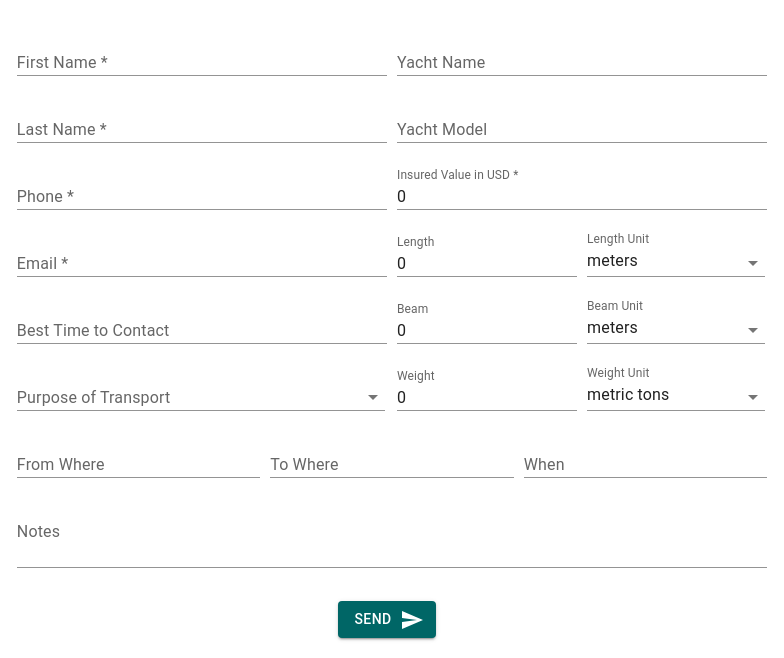
Test: QuoteRequest › shows validation errors when user enters incomplete information
(page scrolled)
Try to submit without filling any required fields
Click the button "Send" at {"x": 387, "y": 620}, box [338,601,436,638]
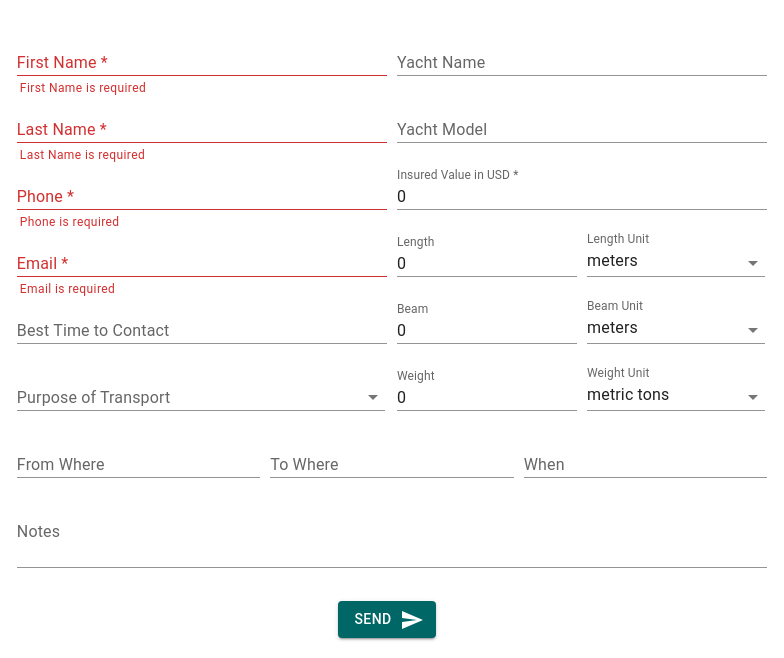
Result: the text "First Name is required" is shown at [20,79,146,99]
Result: the text "Last Name is required" is shown at [20,146,145,166]
Result: the text "Phone is required" is shown at [20,213,119,233]
Fill only first name and try to submit again
Type "John" into the field with test id "firstName-form-text-input" at {"x": 202, "y": 65}, box [17,50,387,79]
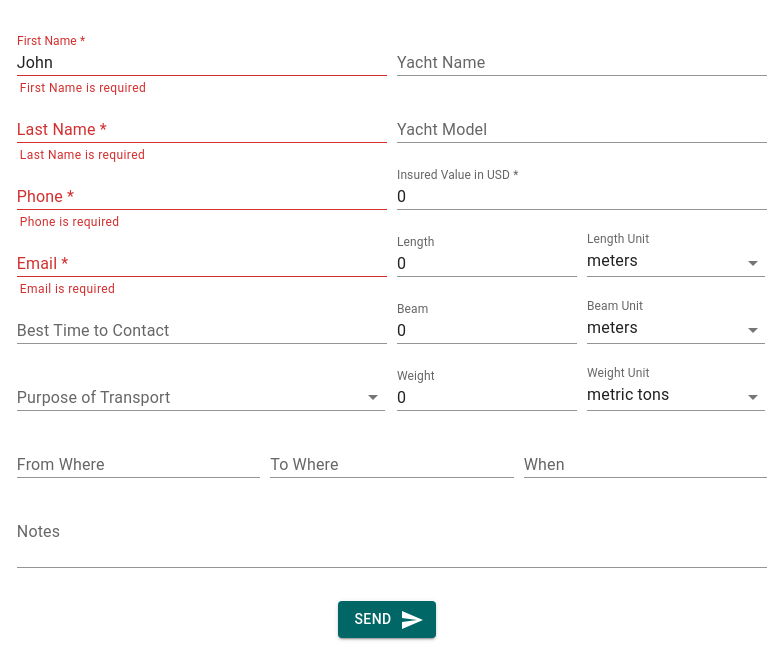
Click the button "Send" at {"x": 387, "y": 620}, box [338,601,436,638]
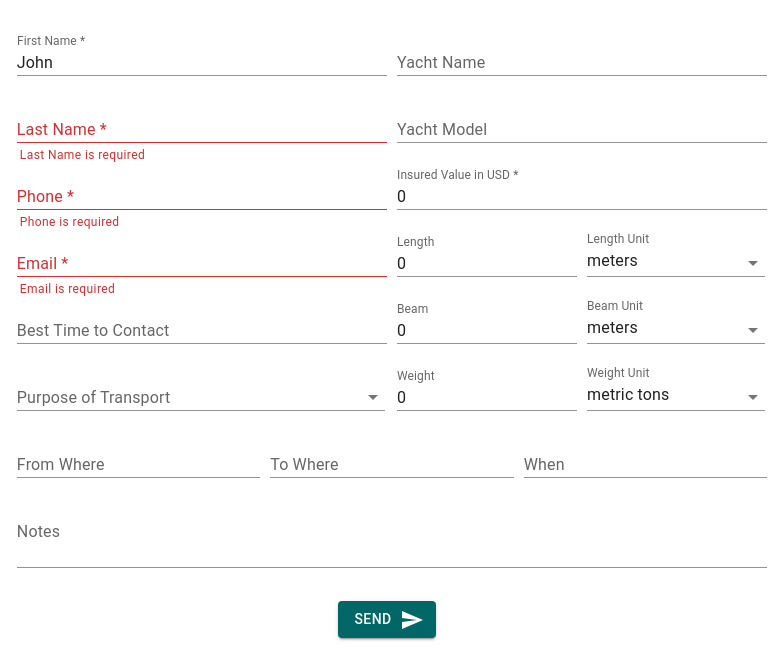
Result: the text "Last Name is required" is shown at [20,146,145,166]
Result: the text "Phone is required" is shown at [20,213,119,233]
Result: the text "First Name is required" is gone
Also test that filling an invalid email shows email validation
Type "invalid-email" into the field with test id "email-form-text-input" at {"x": 202, "y": 266}, box [17,251,387,280]
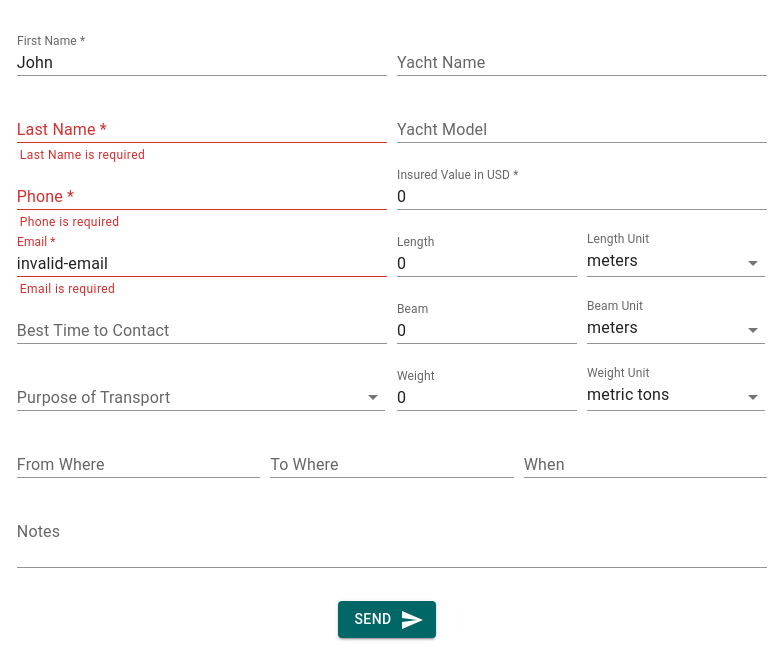
Click the button "Send" at {"x": 387, "y": 620}, box [338,601,436,638]
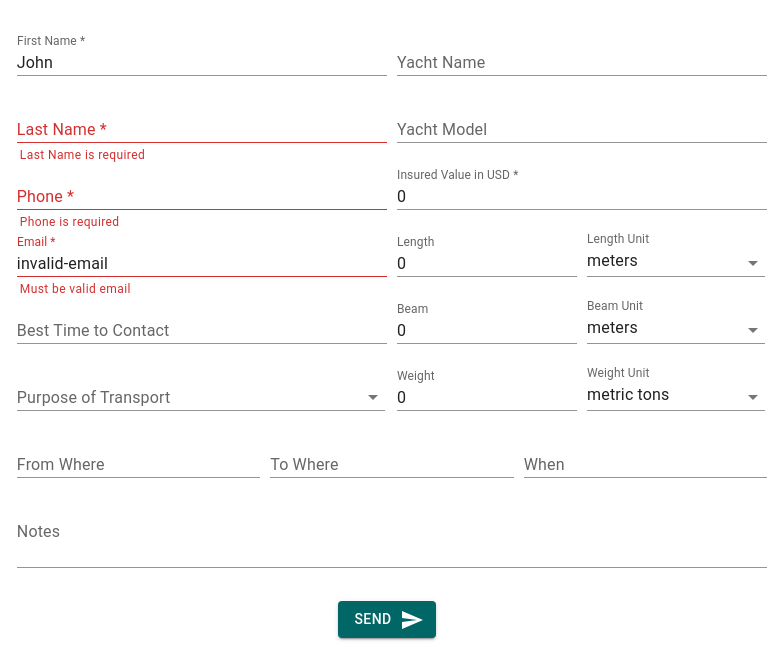
Result: the text "Must be valid email" is shown at [20,280,131,300]
